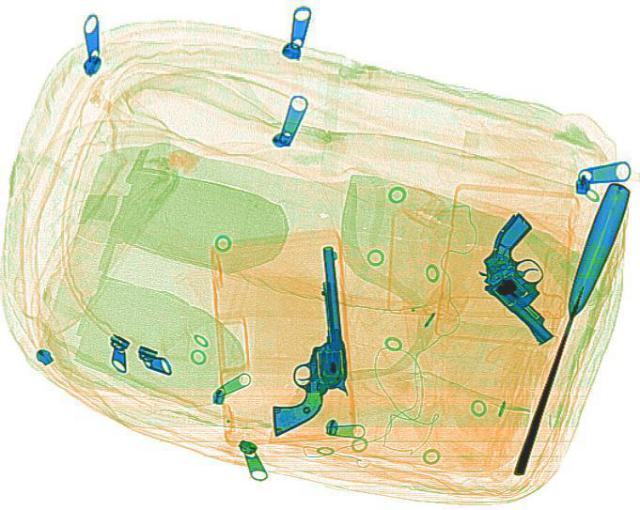Gun: (442, 209, 614, 345), (252, 244, 356, 432)
Knife: (504, 182, 632, 474)
